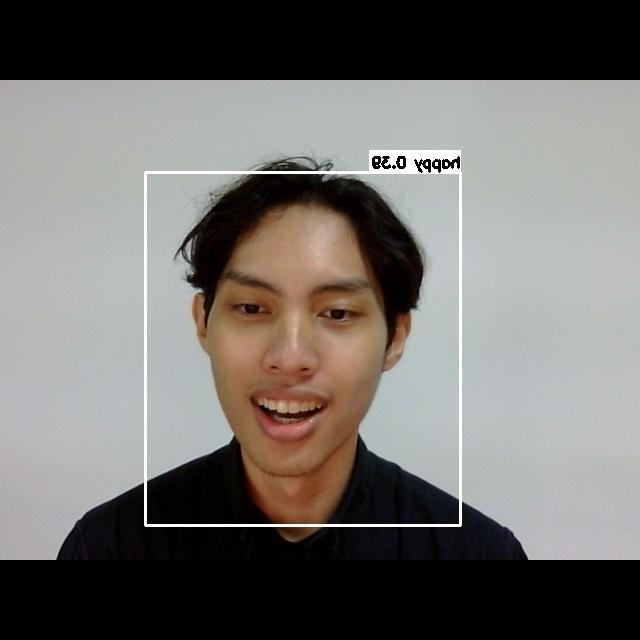Surprised: (204, 242, 394, 446)
